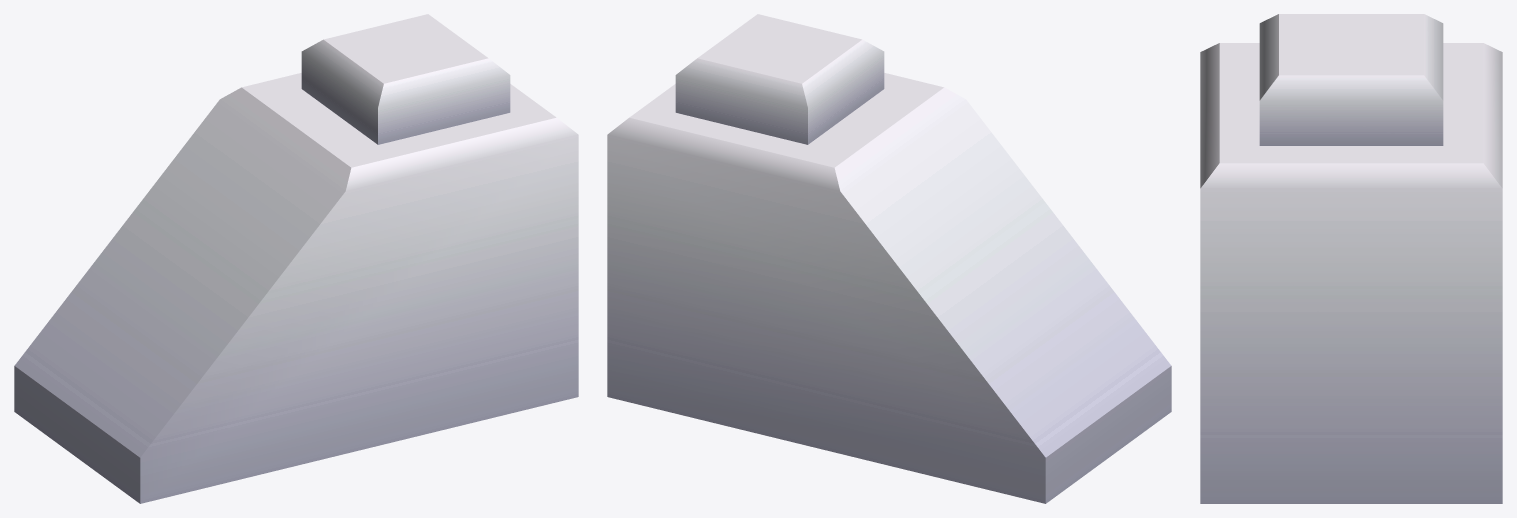
File: square-hq-brick-slope-1x2.glb
The picture shows the model from 3 angles, left to right: view 1: azimuth 30°, elevation 25°; view 2: azimuth 150°, elevation 25°; view 3: azimuth 270°, elevation 25°; orthographic projection. The views are drawn at different scales.
Visible parts, largest first — view 1: square-hq-brick-slope-1x2; view 2: square-hq-brick-slope-1x2; view 3: square-hq-brick-slope-1x2.
Part boxes in pixels (x1,y1,x2,y2): square-hq-brick-slope-1x2: (14, 14, 578, 503); square-hq-brick-slope-1x2: (607, 14, 1171, 503); square-hq-brick-slope-1x2: (1200, 14, 1502, 503).
Bounding box in the file's own units: 0.159 × 0.114 × 0.079.
Materials: 1 (1 with a texture image).
